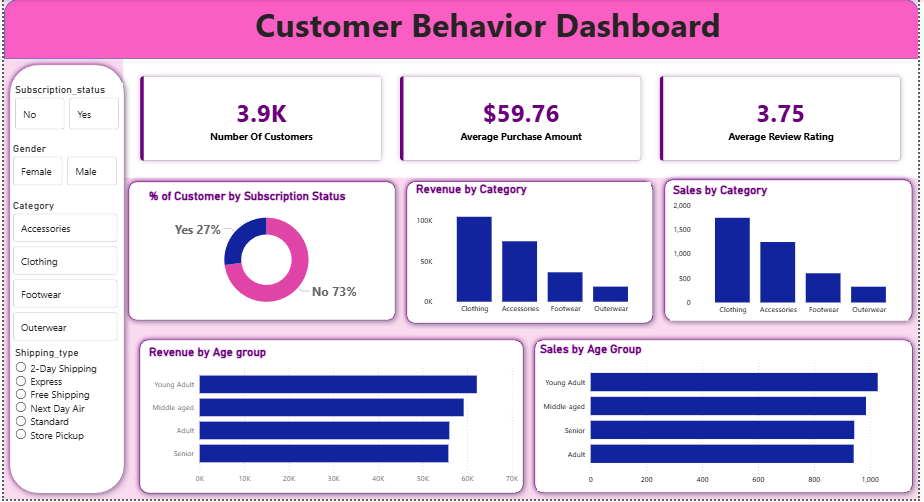

What the dashboard file says about the page in this screenshot:
{"tool":"powerbi","page":{"name":"Page 1","canvas":[1500,820],"ordinal":0},"visuals":[{"type":"cardVisual","fields":{"Data":["public customer.Number Of Customers","public customer.Average Purchase Amount","public customer.Average Review Rating"]},"box":[195.2,98.4,1305.4,195.2],"z":0},{"type":"shape","box":[650.7,290,422.6,250.9],"z":0,"group":"g1"},{"type":"shape","box":[0,0,1500.6,98.4],"z":1000,"group":"g5"},{"type":"clusteredColumnChart","title":"Revenue by Category ","fields":{"Y":["Sum(public customer.purchase_amount)"],"Category":["public customer.category"]},"box":[670.4,299.8,389.8,226.3],"z":1000,"group":"g1"},{"type":"shape","box":[1074.2,287,424.5,250.2],"z":3000,"group":"g2"},{"type":"shape","box":[195.2,290.3,455.9,246],"z":3000},{"type":"donutChart","title":"% of Customer by Subscription Status","fields":{"Category":["public customer.subscription_status"],"Y":["CountNonNull(public customer.customer_id)"]},"box":[233.3,311.7,395,210],"z":4000},{"type":"group","id":"g1","title":"Group 2","box":[650.7,290,422.8,251.7],"z":5000},{"type":"clusteredColumnChart","title":"Sales by Category ","fields":{"Category":["public customer.category"],"Y":["CountNonNull(public customer.customer_id)"]},"box":[1091.6,301.4,391.3,226],"z":5000,"group":"g2"},{"type":"group","id":"g2","title":"Group 3","box":[1074.2,287,424.8,250.9],"z":6000},{"type":"shape","box":[0,98.3,206.7,721.7],"z":7000},{"type":"advancedSlicerVisual","fields":{"Values":["public customer.subscription_status"]},"box":[13.3,138.3,181.7,81.7],"z":8000},{"type":"advancedSlicerVisual","title":"Gender","fields":{"Values":["public customer.gender"]},"box":[10,235,181.7,76.7],"z":9000},{"type":"advancedSlicerVisual","title":"Category","fields":{"Values":["public customer.category"]},"box":[10,328.3,181.7,240],"z":10000},{"type":"listSlicer","fields":{"Values":["public customer.shipping_type"]},"box":[13.3,568.3,178.3,210],"z":11000},{"type":"clusteredBarChart","fields":{"Y":["Sum(public customer.purchase_amount)"],"Category":["public customer.age_group"]},"box":[233.3,563.3,505,215],"z":12000},{"type":"shape","box":[213.2,549.4,647.8,270.6],"z":13000,"group":"g3"},{"type":"shape","box":[861.7,550,638.3,270],"z":14000,"group":"g4"},{"type":"clusteredBarChart","title":"Sales by Age Group ","fields":{"Category":["public customer.age_group"],"Y":["CountNonNull(public customer.customer_id)"]},"box":[874.2,562.5,611.7,244.4],"z":17000,"group":"g4"},{"type":"clusteredBarChart","title":"Revenue by Age group","fields":{"Y":["Sum(public customer.purchase_amount)"],"Category":["public customer.age_group"]},"box":[232.9,567.4,615,237.8],"z":17001,"group":"g3"},{"type":"group","id":"g3","title":"Group 1","box":[213.2,549.4,647.8,270.6],"z":17002},{"type":"group","id":"g4","title":"Group 4","box":[861.7,550,638.3,270],"z":17003},{"type":"textbox","box":[88.6,0,1410.4,98.4],"z":17004,"group":"g5"},{"type":"group","id":"g5","title":"Group 5","box":[0,0,1500.6,98.4],"z":17005}]}

Visuals, with their boxes in screenshot pixels (x1, y1, x2, y2), scaled from the page's 1500x820 canvas onto the 924x502 screenshot:
cardVisual - public customer.Number Of Customers x public customer.Average Purchase Amount: box=[120, 60, 923, 180]
shape: box=[401, 178, 661, 331]
shape: box=[0, 0, 923, 60]
"Revenue by Category " clusteredColumnChart: box=[413, 184, 653, 322]
shape: box=[662, 176, 923, 329]
shape: box=[120, 178, 401, 328]
"% of Customer by Subscription Status" donutChart: box=[144, 191, 387, 319]
"Group 2" group: box=[401, 178, 661, 332]
"Sales by Category " clusteredColumnChart: box=[672, 185, 913, 323]
"Group 3" group: box=[662, 176, 923, 329]
shape: box=[0, 60, 127, 501]
advancedSlicerVisual - public customer.subscription_status: box=[8, 85, 120, 135]
"Gender" advancedSlicerVisual: box=[6, 144, 118, 191]
"Category" advancedSlicerVisual: box=[6, 201, 118, 348]
listSlicer - public customer.shipping_type: box=[8, 348, 118, 476]
clusteredBarChart - Sum(public customer.purchase_amount) x public customer.age_group: box=[144, 345, 455, 476]
shape: box=[131, 336, 530, 501]
shape: box=[531, 337, 923, 501]
"Sales by Age Group " clusteredBarChart: box=[539, 344, 915, 494]
"Revenue by Age group" clusteredBarChart: box=[143, 347, 522, 493]
"Group 1" group: box=[131, 336, 530, 501]
"Group 4" group: box=[531, 337, 923, 501]
textbox: box=[55, 0, 923, 60]
"Group 5" group: box=[0, 0, 923, 60]
